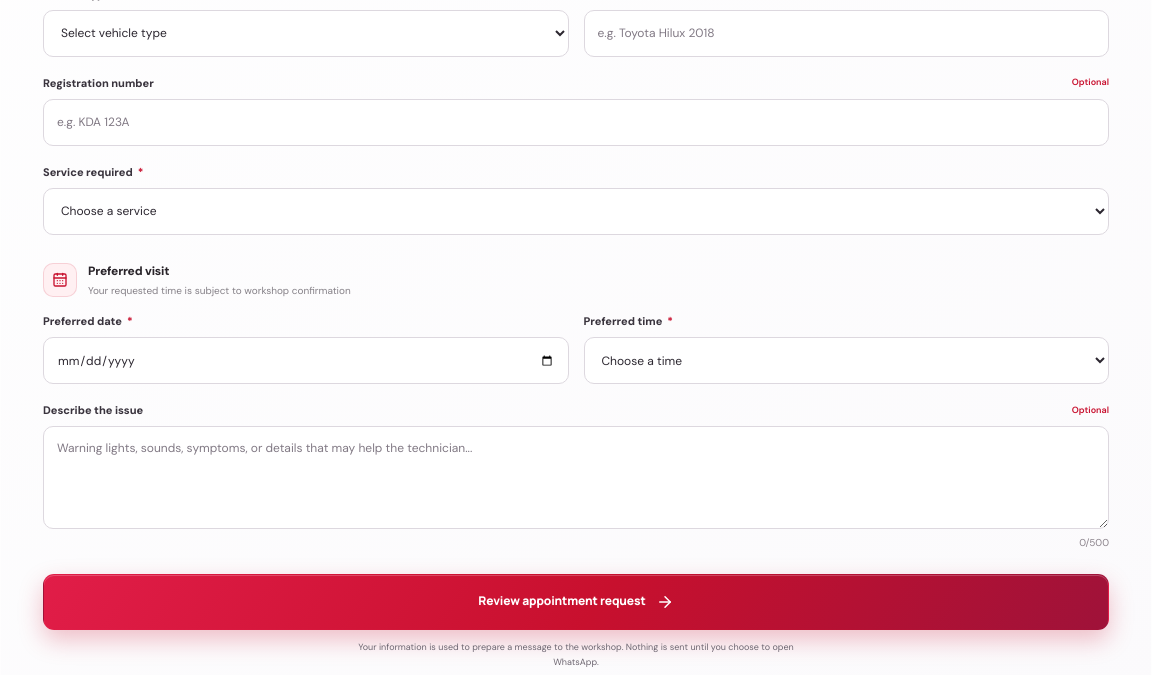
Scenario: AppointmentForm › shows validation messages for missing required fields
(page scrolled)
Click the button "Review appointment request" at (576, 602), box [43, 574, 1109, 630]
(page scrolled)
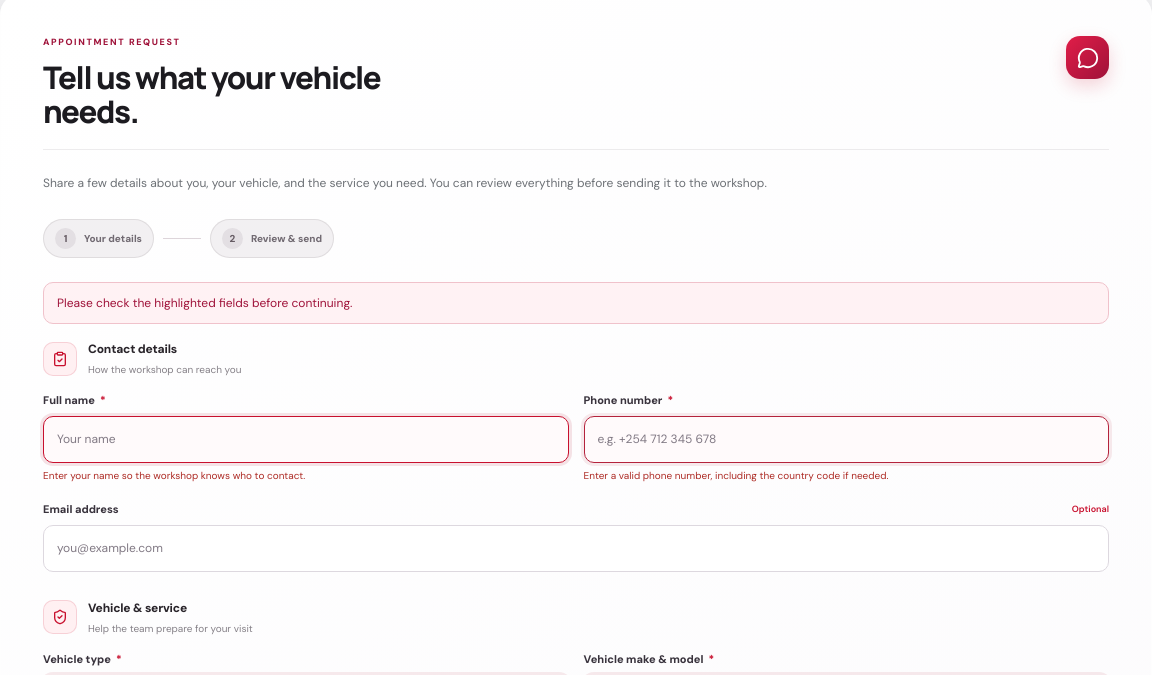
Now the text "Enter your name so the workshop knows who to contact." is shown, box [43, 469, 305, 482]
Now the message shows "highlighted fields", box [57, 295, 352, 311]
